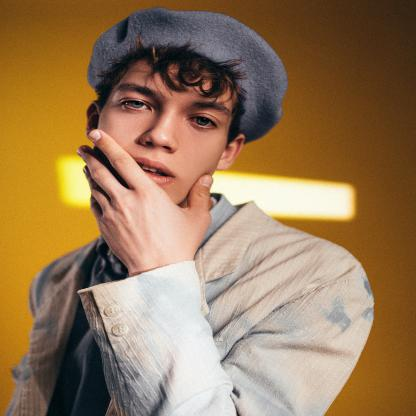Eye: (184, 112, 221, 132), (116, 98, 155, 115)
Mouth: (133, 156, 175, 185)
Nose: (139, 114, 178, 153)
